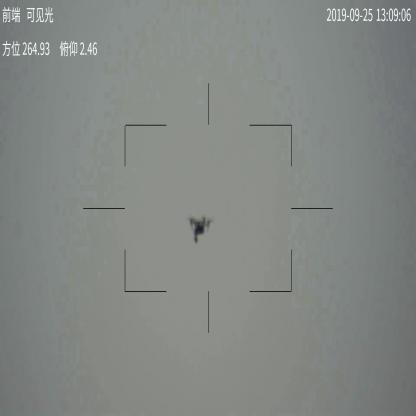uav: (187, 213, 211, 243)
